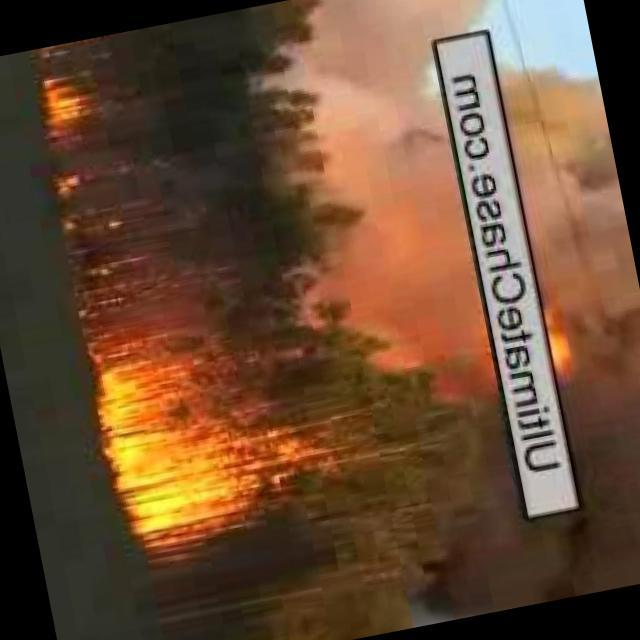Fire: (82, 309, 322, 563), (52, 200, 154, 338), (39, 68, 95, 144), (544, 313, 574, 370), (30, 37, 109, 57), (51, 173, 86, 197)
